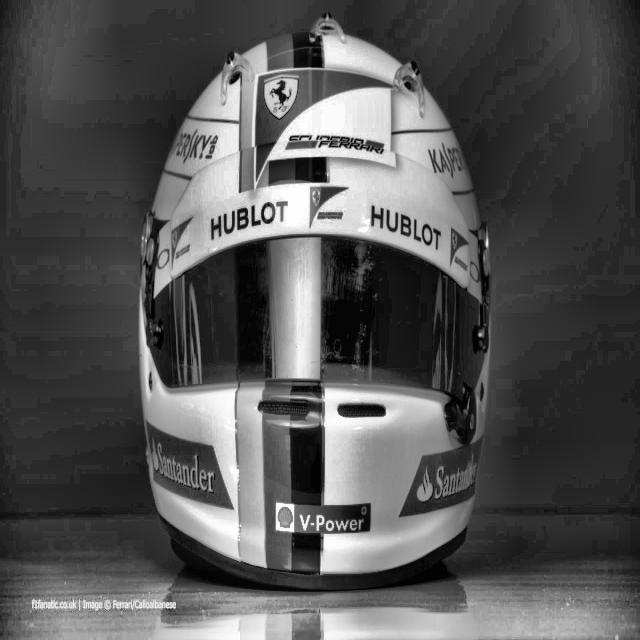Helmet: (136, 13, 502, 587)
